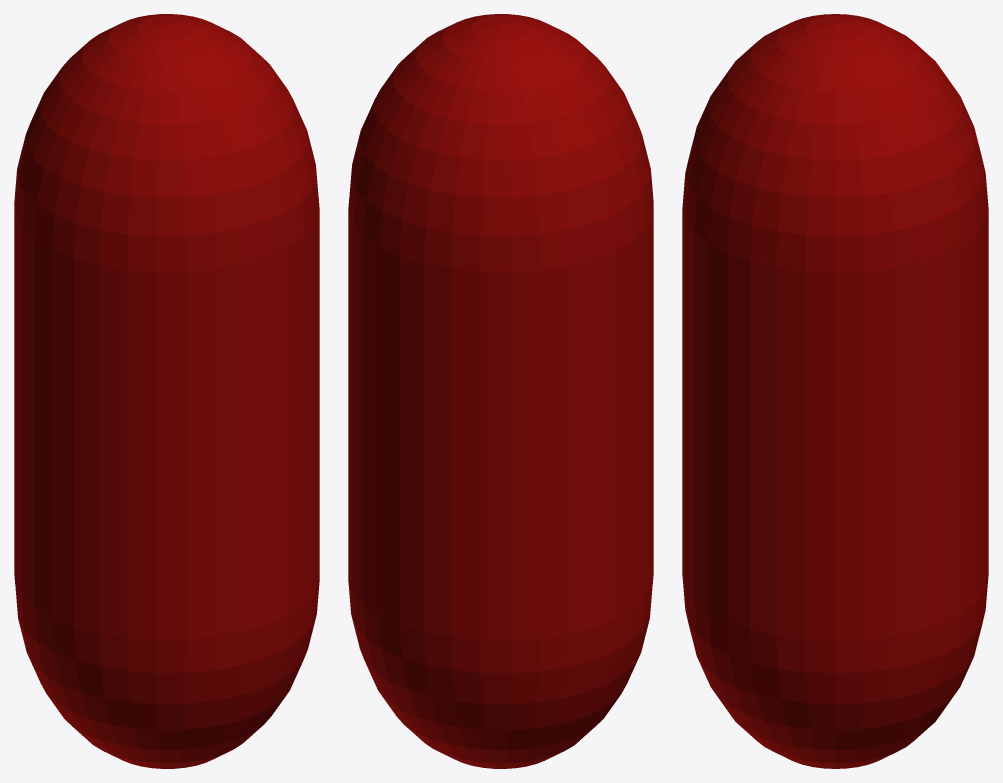
The model's file is kielbasa_03.gltf.
3 views of the same model, side by side, from view 1: azimuth 30°, elevation 25°; view 2: azimuth 150°, elevation 25°; view 3: azimuth 270°, elevation 25° (orthographic).
Visible parts, largest first — view 1: kielbasa_03; view 2: kielbasa_03; view 3: kielbasa_03.
Part boxes in pixels (x1,y1,x2,y2): kielbasa_03: (14,14,319,768); kielbasa_03: (348,14,653,768); kielbasa_03: (682,14,988,768).
Bounding box in the file's own units: 12.52 × 33.09 × 12.52.
